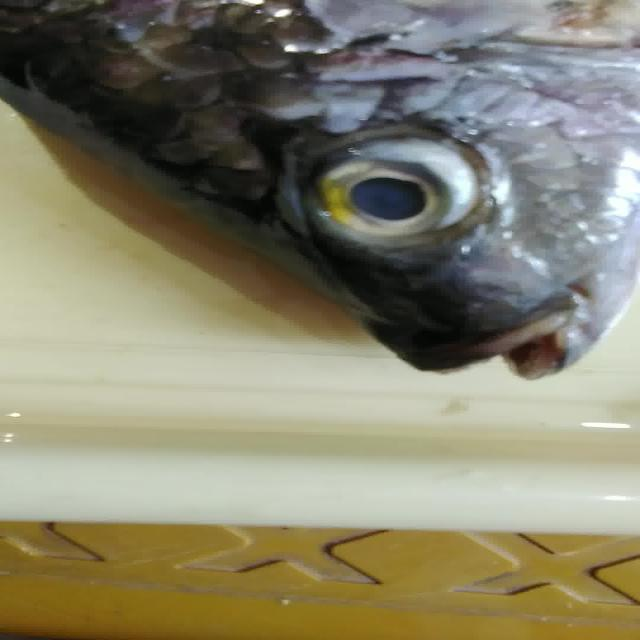Fresh: (264, 113, 526, 271)
